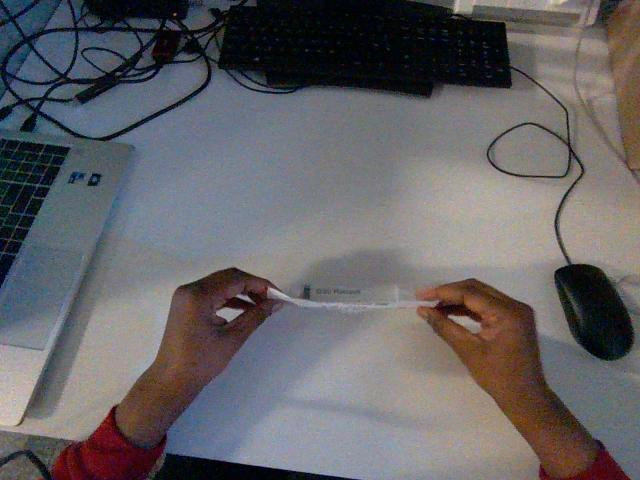syringe: (271, 284, 419, 312)
